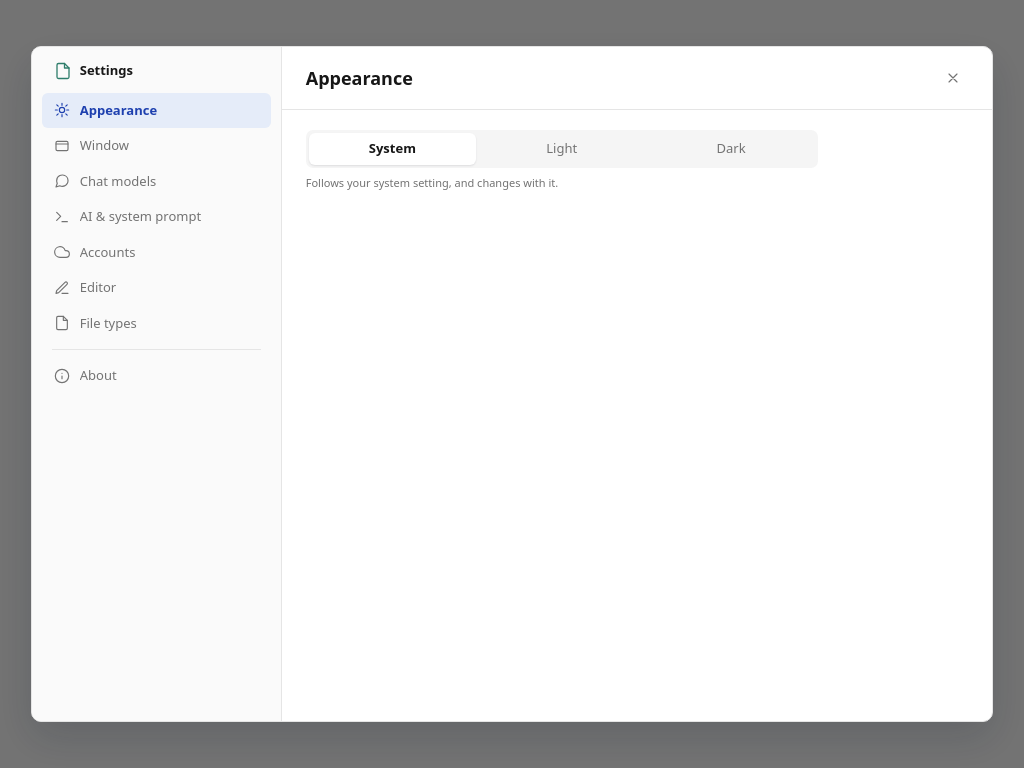
SettingsDialog: the model sub-rail › lists the configured models while Chat models is open
Click the button "Chat models": point(156, 181) [42,164,271,199]
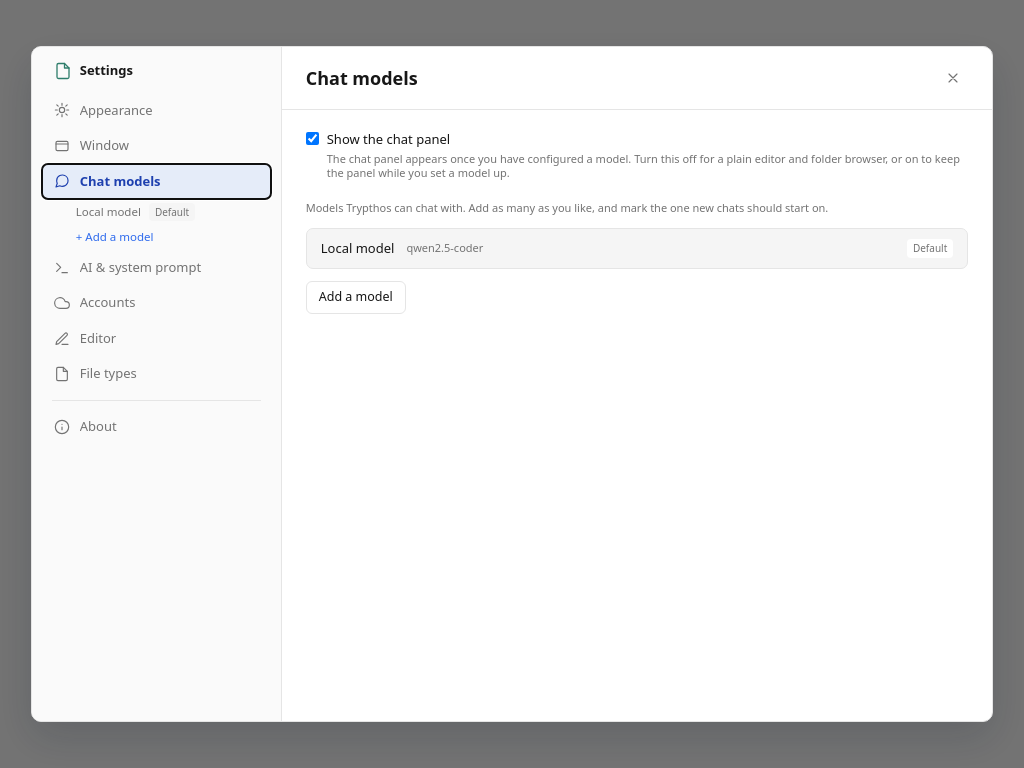
Check: the button with aria-label "Edit Local model" is shown, box [42,199,271,225]
